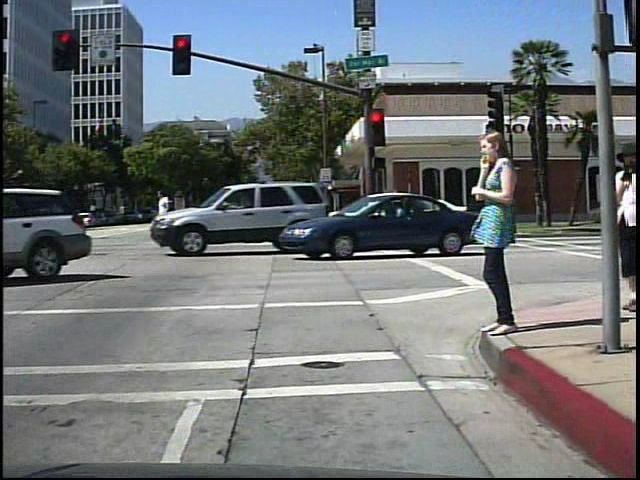person: (468, 121, 526, 340)
